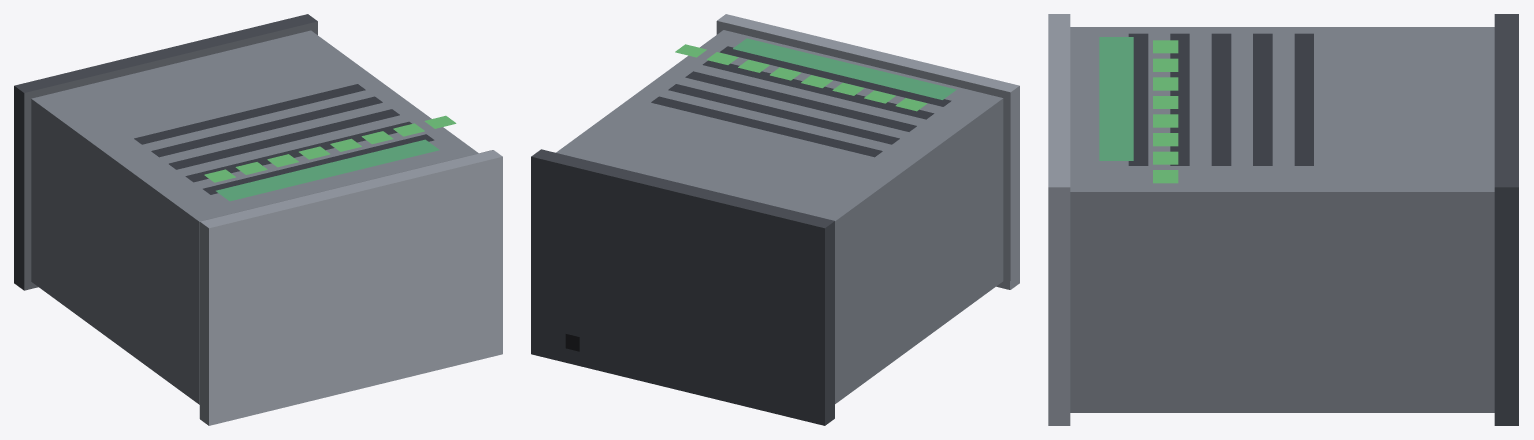
The model's file is bank_ground_premium_c8_S.obj.
3 views of the same model, side by side, from view 1: azimuth 30°, elevation 25°; view 2: azimuth 150°, elevation 25°; view 3: azimuth 270°, elevation 25° (orthographic). The views are drawn at different scales.
Visible parts, largest first — view 1: bank_ground_premium_c8_S; view 2: bank_ground_premium_c8_S; view 3: bank_ground_premium_c8_S.
Part boxes in pixels (x1=…): bank_ground_premium_c8_S: x1=14, y1=14, x2=502, y2=425; bank_ground_premium_c8_S: x1=531, y1=14, x2=1019, y2=425; bank_ground_premium_c8_S: x1=1048, y1=14, x2=1518, y2=425.
Bounding box in the file's own units: 0.84 × 0.546 × 0.9665.
1 material, 1 textured.
